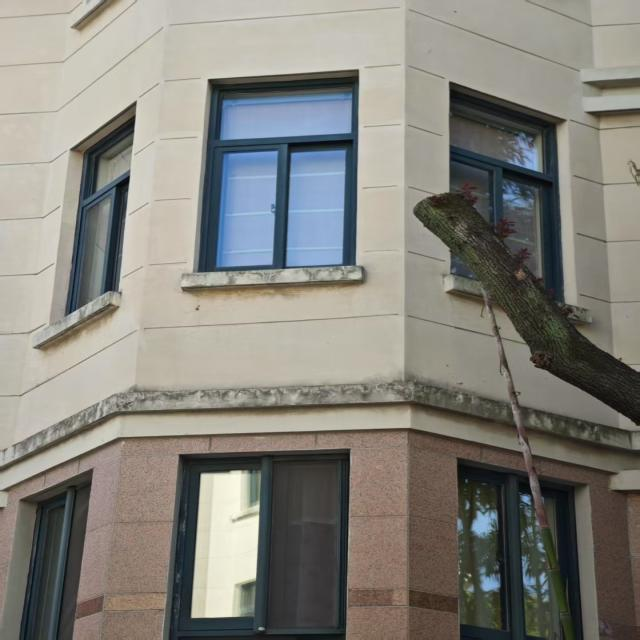mildew: (3, 370, 637, 464), (28, 290, 113, 346), (181, 265, 359, 289)
